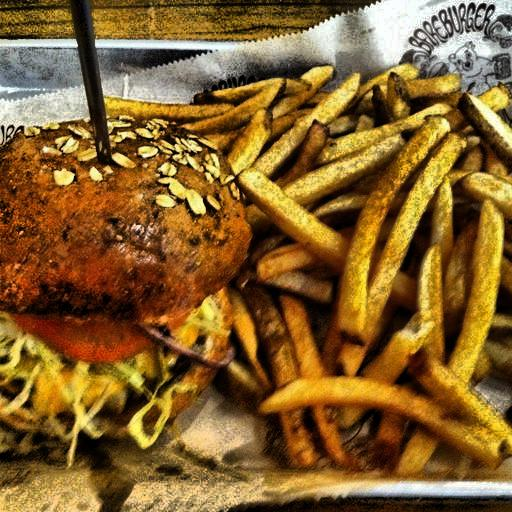burger: (1, 78, 257, 506)
